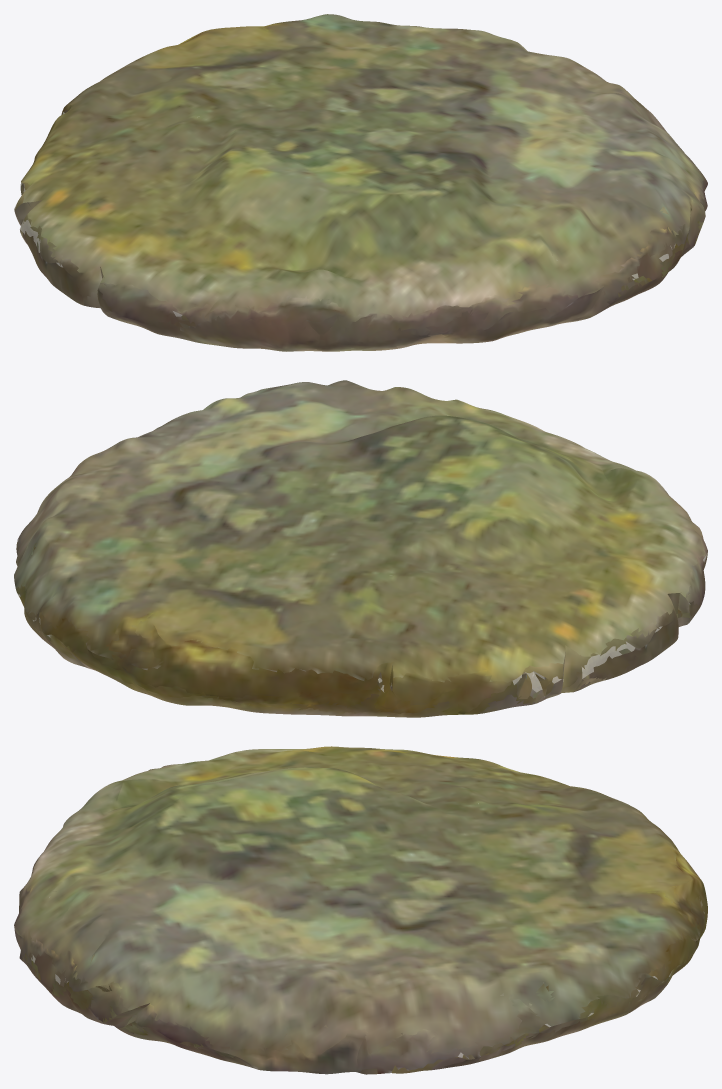
The model's file is roman-coin.glb.
The picture shows the model from 3 angles, top to bottom: view 1: azimuth 30°, elevation 25°; view 2: azimuth 150°, elevation 25°; view 3: azimuth 270°, elevation 25°; orthographic projection.
Visible parts, largest first — view 1: Object_2; view 2: Object_2; view 3: Object_2.
Boxes of the visible parts, bbox=[...] form: Object_2: bbox=[14, 14, 707, 351]; Object_2: bbox=[14, 380, 707, 717]; Object_2: bbox=[14, 746, 707, 1074].
Bounding box in the file's own units: 79.5 × 12.64 × 79.1.
Materials: 1 (1 with a texture image).
